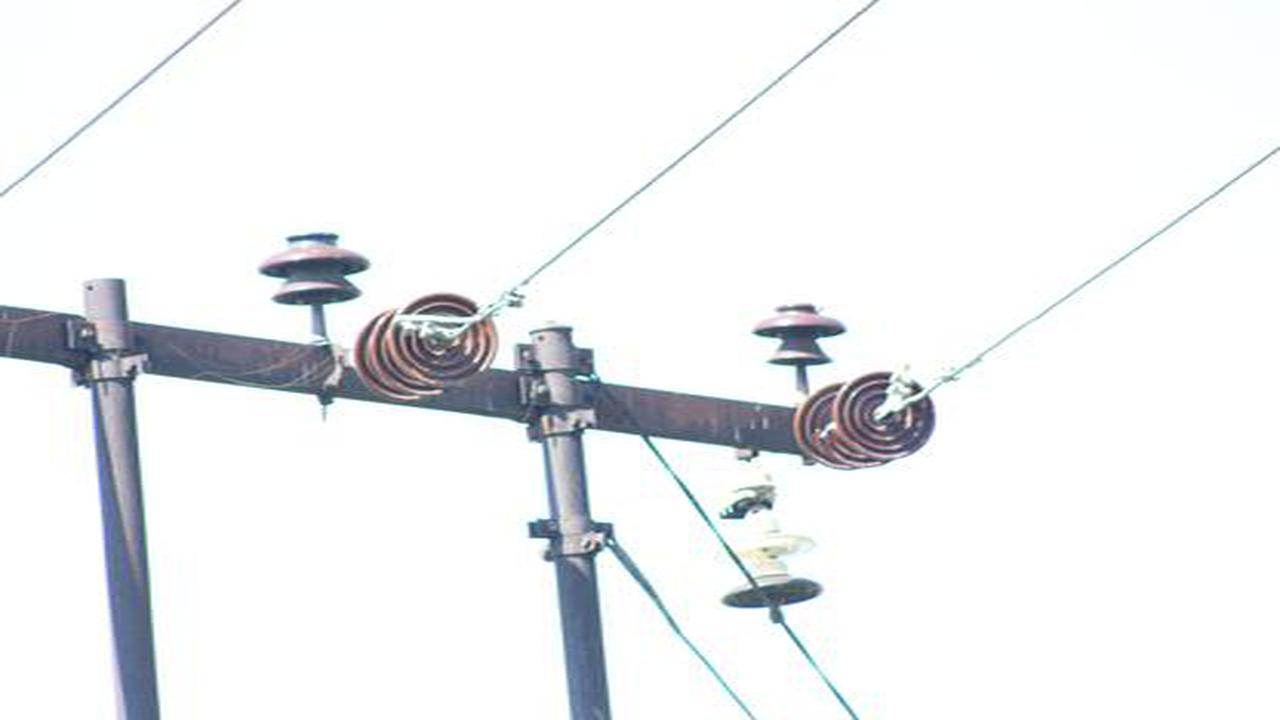insulator_disc: (384, 295, 500, 391), (829, 371, 941, 459)
